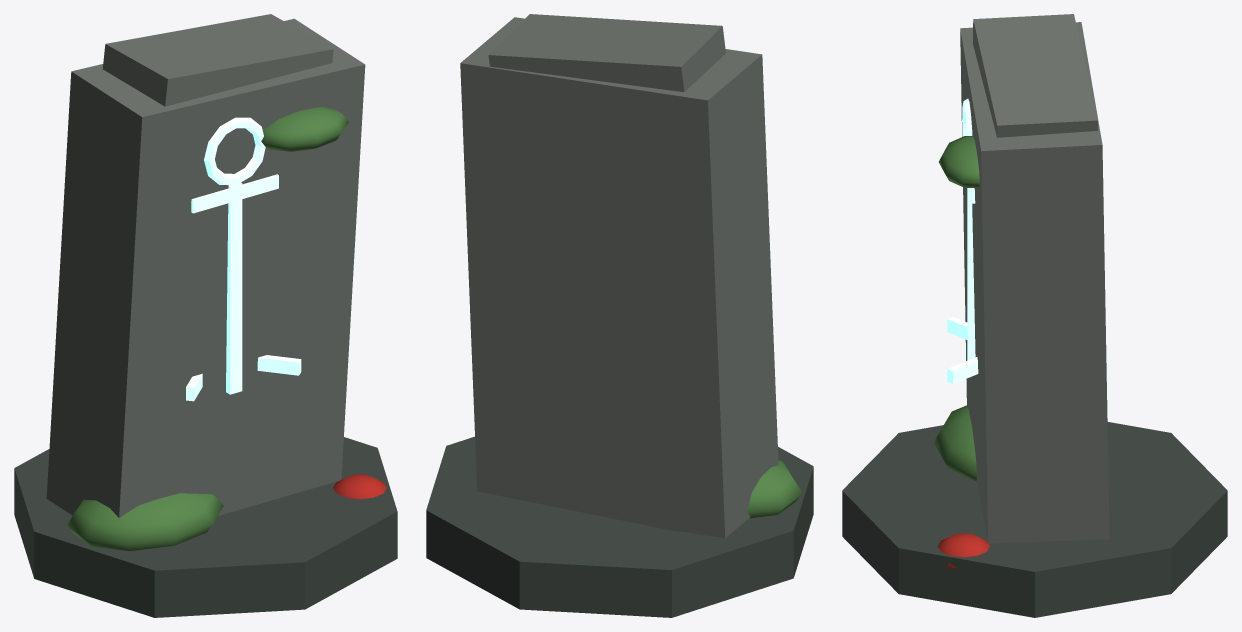
File: Build_Lobby_MapStone_CrystalCaves.glb
The picture shows the model from 3 angles, left to right: view 1: azimuth 30°, elevation 25°; view 2: azimuth 150°, elevation 25°; view 3: azimuth 270°, elevation 25°; orthographic projection. The views are drawn at different scales.
Parts seen in each view (by area): view 1: Build_Lobby_MapStone_CrystalCaves; view 2: Build_Lobby_MapStone_CrystalCaves; view 3: Build_Lobby_MapStone_CrystalCaves.
Part boxes in pixels (x1,y1,x2,y2): Build_Lobby_MapStone_CrystalCaves: [14, 14, 397, 617]; Build_Lobby_MapStone_CrystalCaves: [426, 14, 813, 617]; Build_Lobby_MapStone_CrystalCaves: [842, 14, 1227, 617].
Size of the model in its own units: 3.8 by 5.27 by 3.8.
